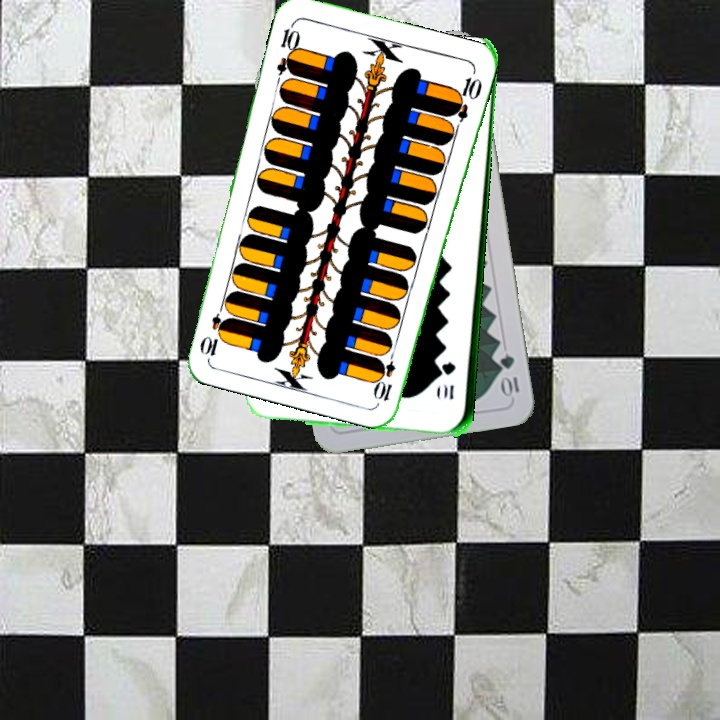E10: (272, 18, 303, 77), (372, 345, 399, 404)
G10: (496, 350, 522, 400), (439, 358, 458, 402)
